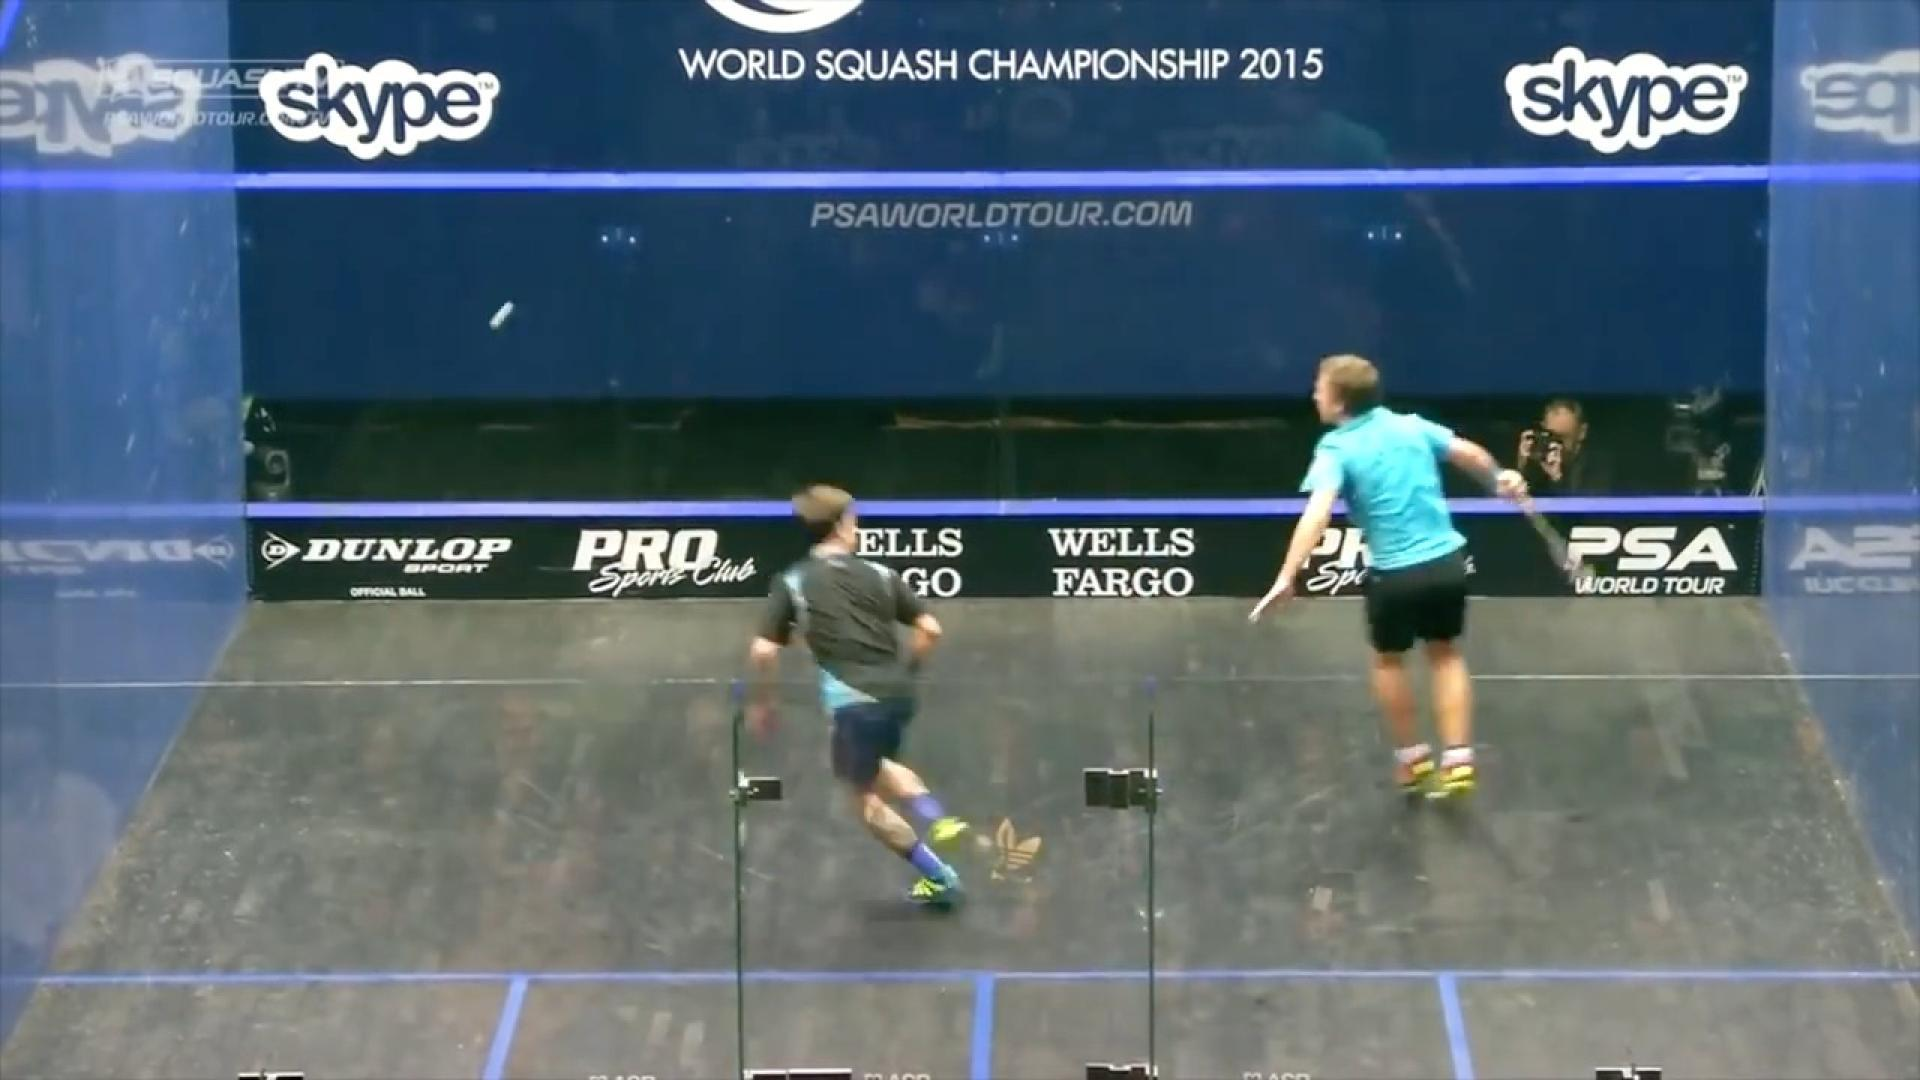Squash-Ball: (469, 290, 530, 343)
